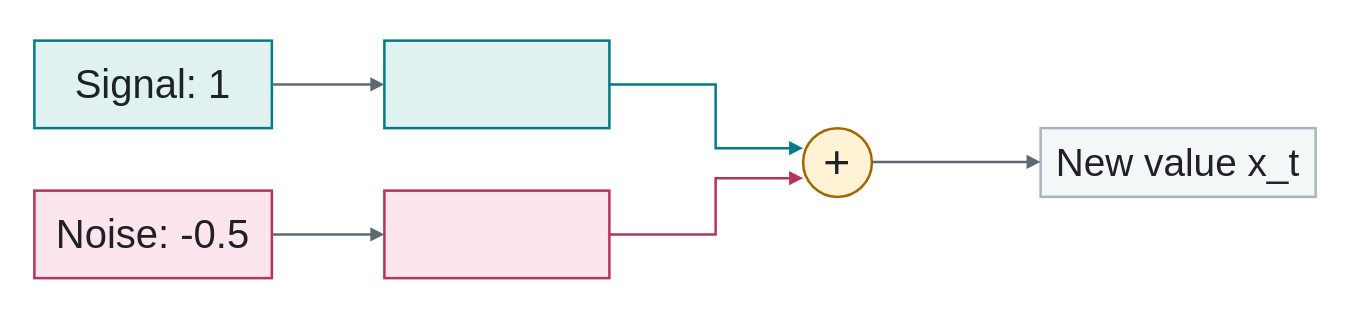
Image size: 1355x318. Some labels were removed from this diagram. Here are the shapes that lost their labels. From the top down, the centre of each, then its label:
the point at 496,84: Scale 0.8
the point at 496,234: Scale 0.6
